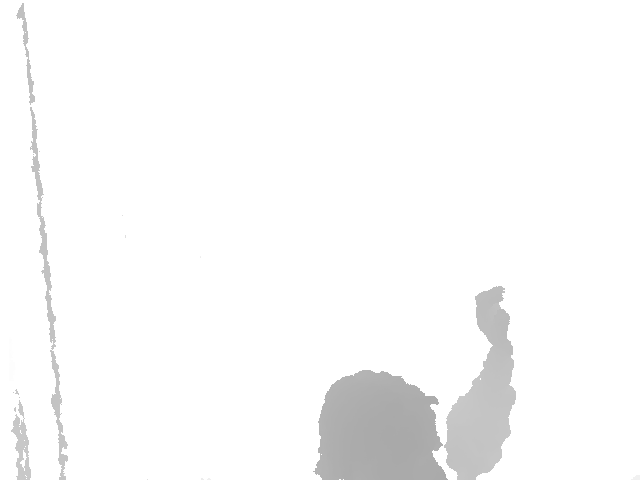hand: (474, 285, 514, 348)
head: (314, 369, 444, 480)
person: (315, 285, 515, 480)
